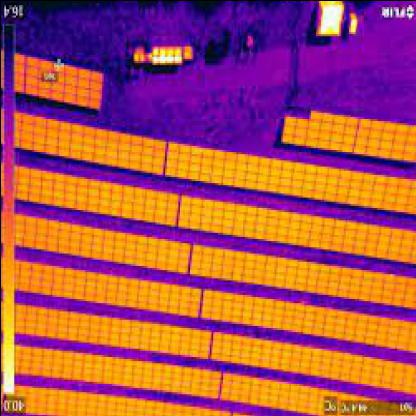Defects: (317, 2, 343, 33), (142, 48, 192, 64)
